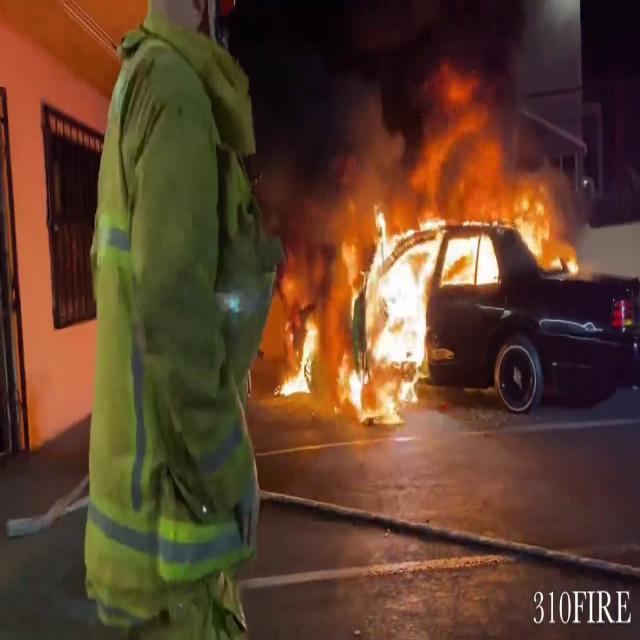Fire: (268, 102, 588, 414)
Smoke: (252, 0, 586, 211)
